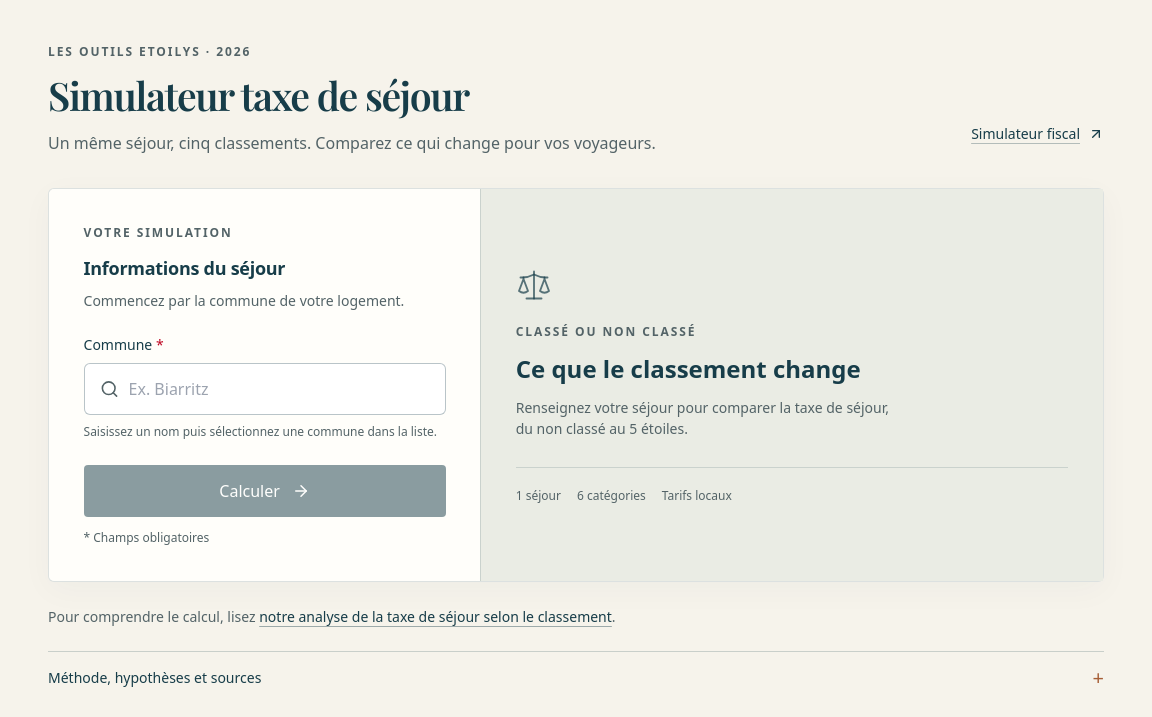
Test: parcours et restauration des simulateurs › calcule au réel, partage et restaure occupation et exonérations
The image size is (1152, 717).
Later steps or results of the test are not shown.
Type "Testville" into the dropdown at (265, 389), box 84,363 -> 446,415
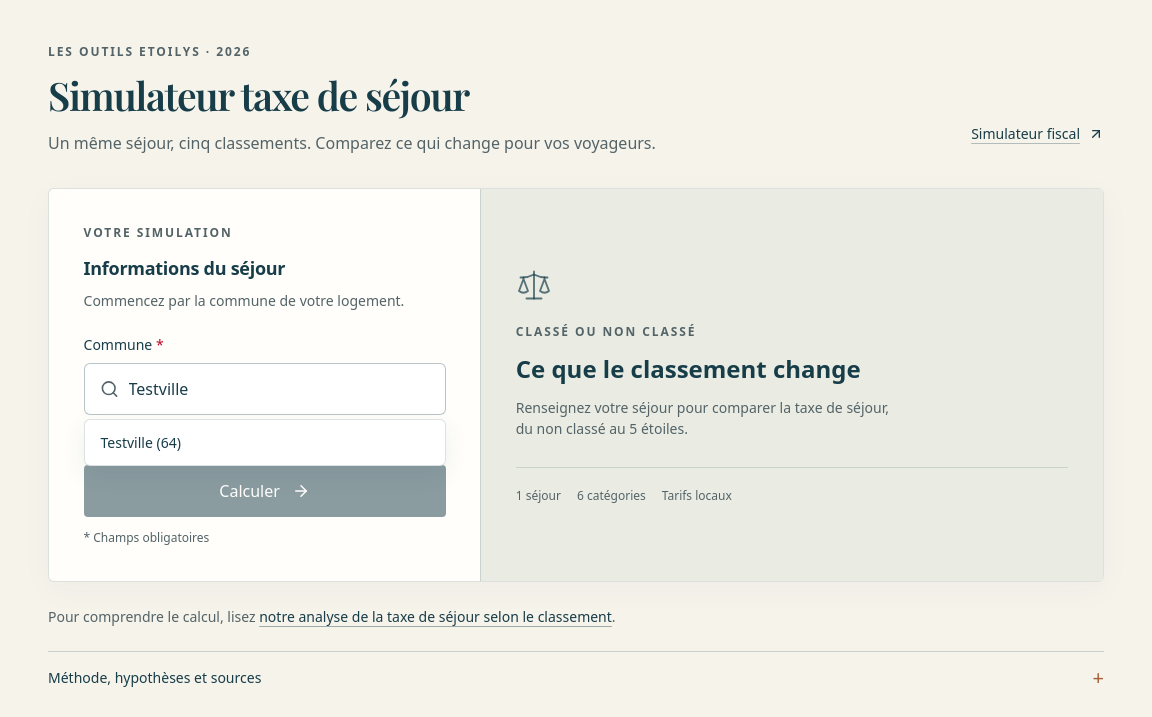
Now the option "Testville (64)" is shown, box 100,433 -> 181,452
Press ArrowDown in the dropdown, box 84,363 -> 446,415
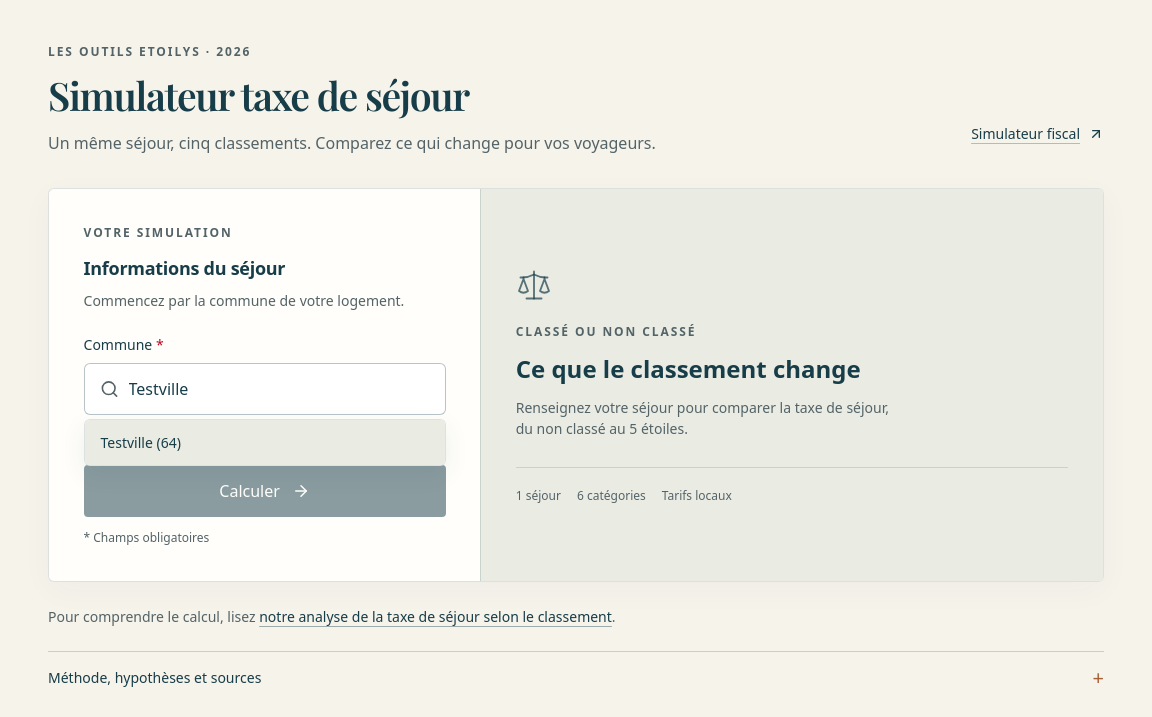
Press Enter in the dropdown, box 84,363 -> 446,415
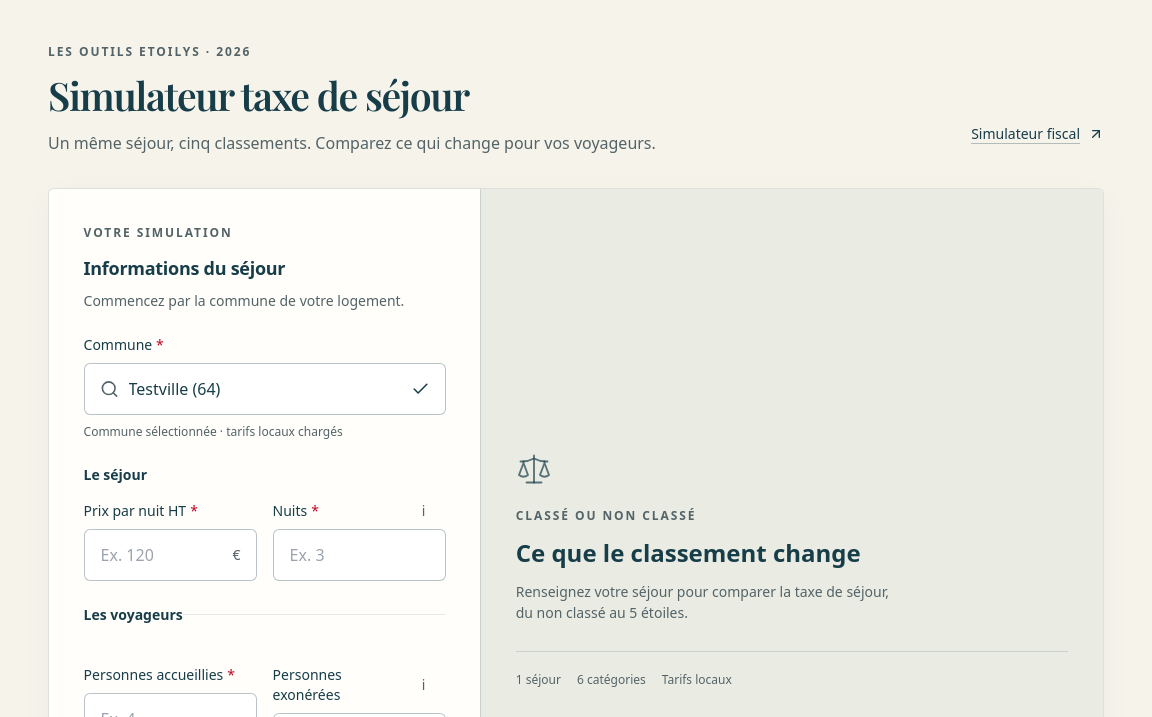
Now the dropdown holds "Testville (64)", box 84,363 -> 446,415
Type "100" into the number field with id "nightly-price-input" at (170, 555), box 84,529 -> 256,581
Type "2" into the number field with id "nights-input" at (359, 555), box 273,529 -> 446,581
(page scrolled)
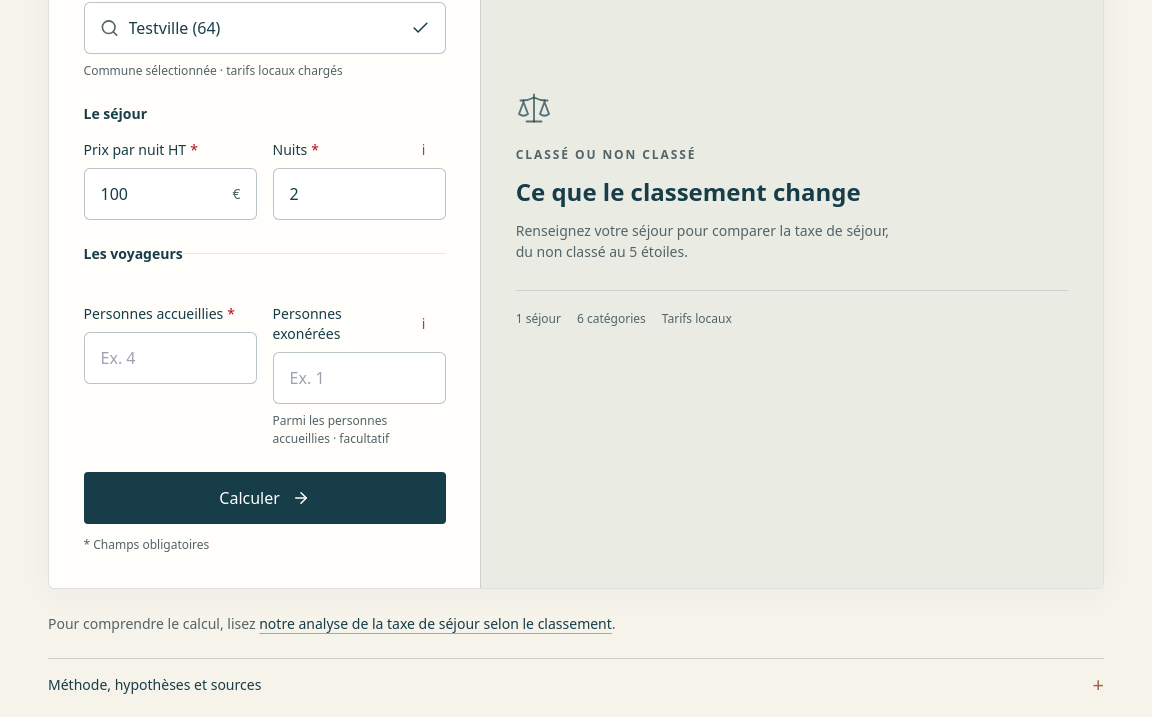
Type "4" into the number field labelled "Personnes accueillies*" at (170, 358), box 84,332 -> 256,384
Type "1" into the number field with id "exempted-persons-input" at (359, 378), box 273,352 -> 446,404
(page scrolled)
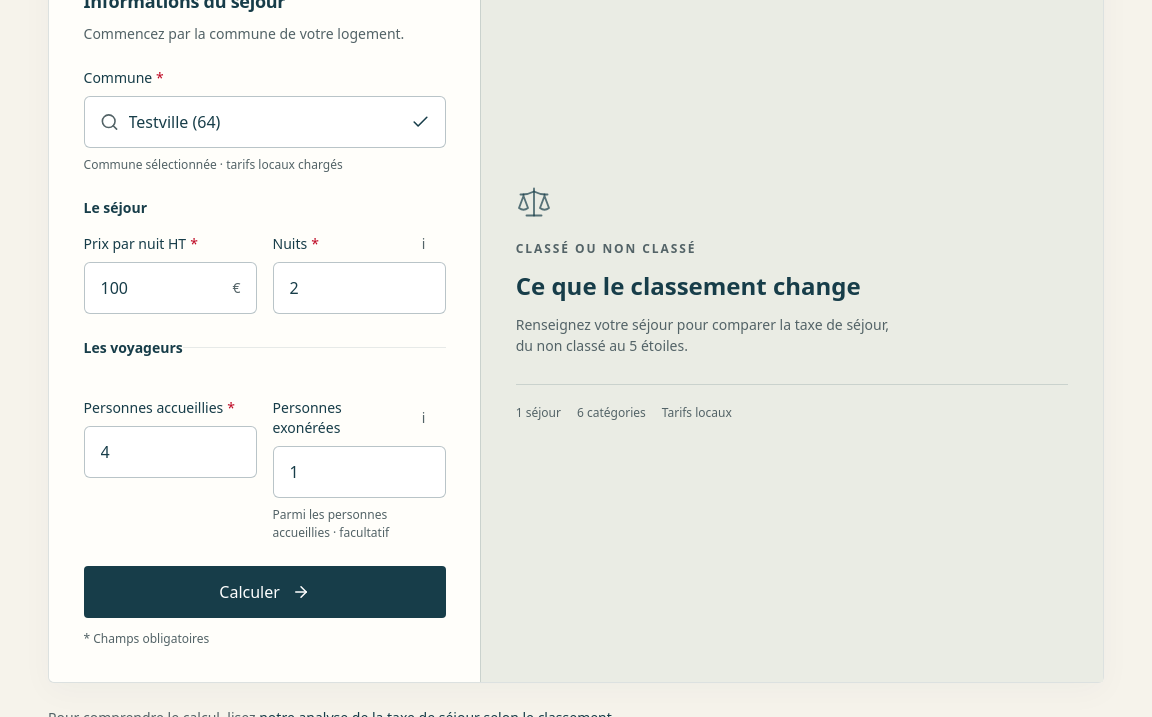
Submit the form, box 84,68 -> 446,648
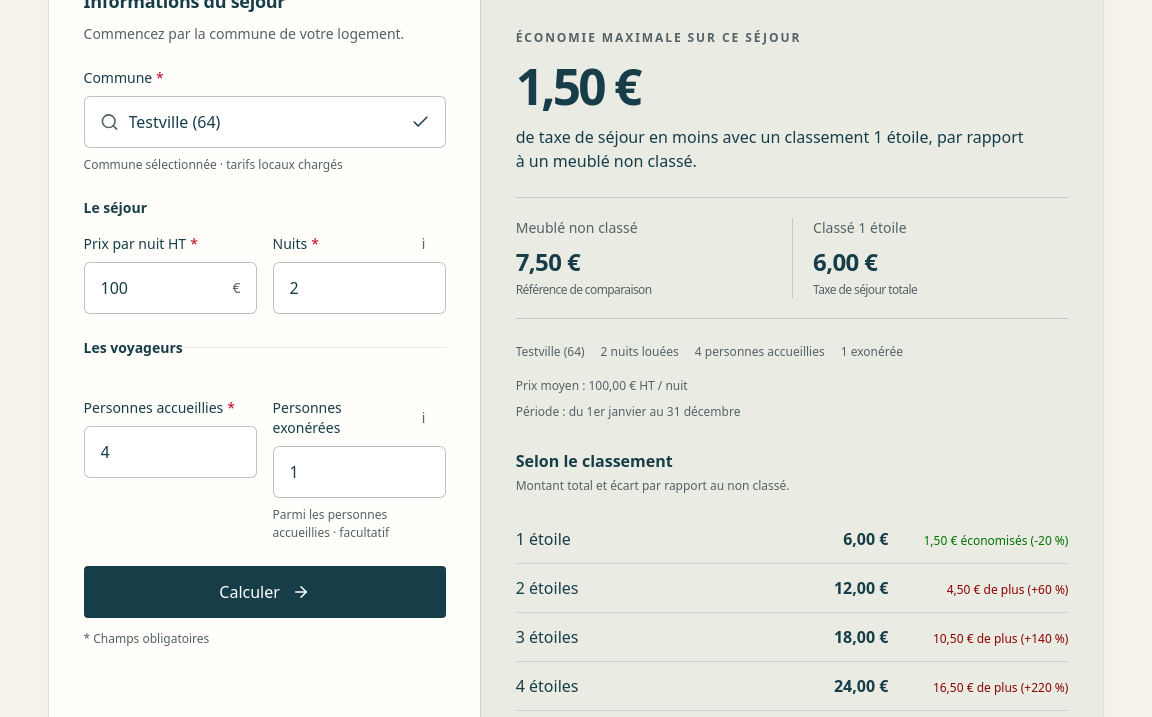
Now the text "Meublé non classé" is shown, box 516,218 -> 638,237
Now the text "7,50 € Référence de comparaison" is shown, box 516,245 -> 652,298
Now the heading "Selon le classement" is shown, box 516,450 -> 673,472
